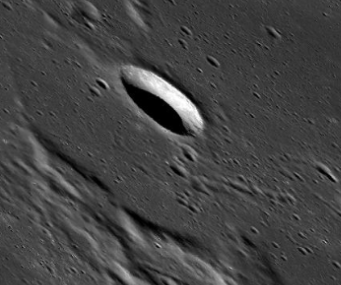crater: (100, 37, 217, 200)
